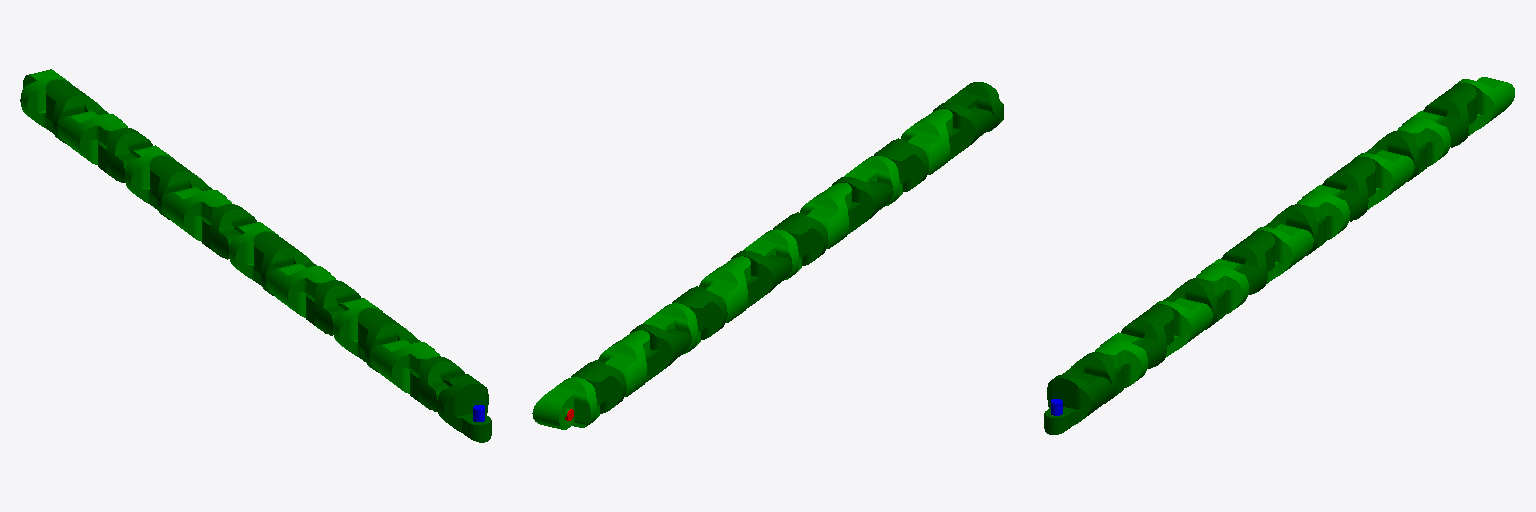
--- Facts derived from the render (not from the file) ---
3 views of the same robot in one strip: view 1: azimuth 30°, elevation 25°; view 2: azimuth 150°, elevation 25°; view 3: azimuth 330°, elevation 25° (orthographic).
Robot: REU_snake — 52 links, 51 joints (16 revolute, 35 fixed); root link kdl_dummy_root; default pose: all joints at 0.
Visible links, largest first — view 1: reu_module_body_16, reu_module_body_6, reu_module_body_2, reu_module_body_10, reu_module_body_14, reu_module_body_13, reu_module_body_11, reu_module_body_15, reu_module_body_3, reu_module_body_7, reu_module_body_9, reu_module_body_5 (+5 smaller); view 2: reu_module_body_0, reu_module_body_14, reu_module_body_10, reu_module_body_6, reu_module_body_2, reu_module_body_3, reu_module_body_7, reu_module_body_11, reu_module_body_15, reu_module_body_13, reu_module_body_1, reu_module_body_9 (+5 smaller); view 3: reu_module_body_16, reu_module_body_5, reu_module_body_1, reu_module_body_9, reu_module_body_13, reu_module_body_12, reu_module_body_8, reu_module_body_4, reu_module_body_0, reu_module_body_6, reu_module_body_10, reu_module_body_14 (+5 smaller).
Link boxes in pixels (x1=…): reu_module_body_16: x1=437, y1=374, x2=491, y2=442; reu_module_body_6: x1=162, y1=187, x2=231, y2=241; reu_module_body_2: x1=58, y1=111, x2=127, y2=164; reu_module_body_10: x1=266, y1=263, x2=335, y2=317; reu_module_body_14: x1=370, y1=340, x2=439, y2=393; reu_module_body_13: x1=358, y1=308, x2=420, y2=372; reu_module_body_11: x1=306, y1=280, x2=360, y2=335; reu_module_body_15: x1=410, y1=356, x2=465, y2=411; reu_module_body_3: x1=98, y1=128, x2=152, y2=182; reu_module_body_7: x1=202, y1=204, x2=256, y2=259; reu_module_body_9: x1=254, y1=232, x2=316, y2=295; reu_module_body_5: x1=150, y1=156, x2=212, y2=219; reu_module_body_0: x1=532, y1=377, x2=599, y2=429; reu_module_body_14: x1=901, y1=109, x2=952, y2=174; reu_module_body_10: x1=800, y1=183, x2=851, y2=248; reu_module_body_6: x1=699, y1=256, x2=750, y2=322; reu_module_body_2: x1=598, y1=330, x2=649, y2=396; reu_module_body_3: x1=630, y1=324, x2=690, y2=381; reu_module_body_7: x1=731, y1=250, x2=791, y2=307; reu_module_body_11: x1=832, y1=177, x2=892, y2=233; reu_module_body_15: x1=933, y1=103, x2=993, y2=160; reu_module_body_13: x1=874, y1=138, x2=928, y2=191; reu_module_body_1: x1=571, y1=360, x2=626, y2=413; reu_module_body_9: x1=773, y1=212, x2=828, y2=265; reu_module_body_16: x1=1044, y1=372, x2=1111, y2=434; reu_module_body_5: x1=1322, y1=157, x2=1375, y2=221; reu_module_body_1: x1=1423, y1=83, x2=1476, y2=147; reu_module_body_9: x1=1221, y1=231, x2=1274, y2=294; reu_module_body_13: x1=1121, y1=305, x2=1173, y2=368; reu_module_body_12: x1=1150, y1=298, x2=1212, y2=356; reu_module_body_8: x1=1251, y1=224, x2=1313, y2=283; reu_module_body_4: x1=1352, y1=150, x2=1414, y2=209; reu_module_body_0: x1=1453, y1=77, x2=1514, y2=135; reu_module_body_6: x1=1297, y1=185, x2=1349, y2=240; reu_module_body_10: x1=1196, y1=259, x2=1248, y2=314; reu_module_body_14: x1=1095, y1=332, x2=1147, y2=387.
Bounding box of the posed robot: 0.0513 × 0.8891 × 0.0513 m (x, y, z).
Meshes: 1 distinct files referenced, 17 mesh visuals loaded (1 binary STL).

robot.urdf — REU_snake:
<?xml version="1.0" ?>
<robot name="REU_snake" xmlns:xacro="http://ros.org/wiki/xacro">
  <!-- Written by Christian Luu ([email redacted]) 2021 -->
  <!-- URDF uses a cylindrical collision model -->
  <!-- Inertial Matrix of ReU module is from MeshLab -->
  <link name="kdl_dummy_root"/>
  <joint name="kdl_dummy_root_to_dummy_head" type="fixed">
    <parent link="kdl_dummy_root"/>
    <child link="reu_module_in_0"/>
    <origin rpy="0 -1.57079632679 0" xyz="0 0 0.026"/>
  </joint>
  <link name="reu_module_in_0">
    <visual>
      <origin rpy="0 0 0" xyz="0 0 0"/>
      <geometry>
        <cylinder length="0.02" radius="0.006"/>
      </geometry>
      <material name="red">
        <color rgba="1 0 0 1"/>
      </material>
    </visual>
    <inertial>
      <origin rpy="0 0 0" xyz="0 0 0"/>
      <mass value="1"/>
      <inertia ixx="1" ixy="0" ixz="0" iyy="1" iyz="0" izz="1"/>
    </inertial>
  </link>
  <link name="reu_module_body_0">
    <visual>
      <origin rpy="0 0 0" xyz="-0.02539 -0.02539 -0.9"/>
      <geometry>
        <mesh filename="package://snakelib_description/REU_snake/meshes/ReU.STL" scale="0.0254 0.0254 0.0254"/>
      </geometry>
      <material name="green_dark">
        <color rgba="0 0.6 0 1"/>
      </material>
    </visual>
    <collision>
      <origin rpy="0 0 0" xyz="0 0 0"/>
      <geometry>
        <cylinder length="0.0208325" radius="0.02539"/>
      </geometry>
    </collision>
    <inertial>
      <origin rpy="0 0 0" xyz="0 0 0"/>
      <mass value="0.103"/>
      <inertia ixx="2.948" ixy="0.0452" ixz="0.4092" iyy="2.9305" iyz="-0.405" izz="1.819"/>
    </inertial>
  </link>
  <link name="reu_module_out_0">
    <visual>
      <origin rpy="0 0 0" xyz="0 0 0"/>
      <geometry>
        <cylinder length="0.015" radius="0.006"/>
      </geometry>
      <material name="blue">
        <color rgba="0 0 1 1"/>
      </material>
    </visual>
    <inertial>
      <origin rpy="0 0 0" xyz="0 0 0"/>
      <mass value="0"/>
      <inertia ixx="1" ixy="0" ixz="0" iyy="1" iyz="0" izz="1"/>
    </inertial>
  </link>
  <joint name="reu_joint_in2body_0" type="fixed">
    <parent link="reu_module_in_0"/>
    <child link="reu_module_body_0"/>
    <origin rpy="1.57076327 0 0" xyz="0 -0.0066 0"/>
  </joint>
  <joint name="reu_joint_body2out_0" type="fixed">
    <parent link="reu_module_body_0"/>
    <child link="reu_module_out_0"/>
    <origin rpy="0 1.57076327 0" xyz="0 0 0.044"/>
  </joint>
  <joint name="reu_joint_out2in_0" type="revolute">
    <parent link="reu_module_out_0"/>
    <child link="reu_module_in_1"/>
    <axis xyz="0 0 1"/>
    <origin rpy="0 3.14152654 -1.57076327" xyz="0 0 0"/>
    <dynamics damping="0.1" friction="0.2"/>
    <limit effort="7.0" lower="-1.57076327" upper="1.57076327" velocity="2.2"/>
  </joint>
  <transmission name="module_2_module_trans_0">
    <type>transmission_interface/SimpleTranmission</type>
    <actuator name="module_actuator_0">
      <mechanicalReduction>1</mechanicalReduction>
    </actuator>
    <joint name="reu_joint_out2in_0">
      <hardwareInterface>PositionJointInterface</hardwareInterface>
    </joint>
  </transmission>
  <link name="reu_module_in_1">
    <visual>
      <origin rpy="0 0 0" xyz="0 0 0"/>
      <geometry>
        <cylinder length="0.02" radius="0.006"/>
      </geometry>
      <material name="red">
        <color rgba="1 0 0 1"/>
      </material>
    </visual>
    <inertial>
      <origin rpy="0 0 0" xyz="0 0 0"/>
      <mass value="1"/>
      <inertia ixx="1" ixy="0" ixz="0" iyy="1" iyz="0" izz="1"/>
    </inertial>
  </link>
  <link name="reu_module_body_1">
    <visual>
      <origin rpy="0 0 0" xyz="-0.02539 -0.02539 -0.9"/>
      <geometry>
        <mesh filename="package://snakelib_description/REU_snake/meshes/ReU.STL" scale="0.0254 0.0254 0.0254"/>
      </geometry>
      <material name="green_light">
        <color rgba="0 0.4 0 1"/>
      </material>
    </visual>
    <collision>
      <origin rpy="0 0 0" xyz="0 0 0"/>
      <geometry>
        <cylinder length="0.0208325" radius="0.02539"/>
      </geometry>
    </collision>
    <inertial>
      <origin rpy="0 0 0" xyz="0 0 0"/>
      <mass value="0.103"/>
      <inertia ixx="2.948" ixy="0.0452" ixz="0.4092" iyy="2.9305" iyz="-0.405" izz="1.819"/>
    </inertial>
  </link>
  <link name="reu_module_out_1">
    <visual>
      <origin rpy="0 0 0" xyz="0 0 0"/>
      <geometry>
        <cylinder length="0.015" radius="0.006"/>
      </geometry>
      <material name="blue">
        <color rgba="0 0 1 1"/>
      </material>
    </visual>
    <inertial>
      <origin rpy="0 0 0" xyz="0 0 0"/>
      <mass value="0"/>
      <inertia ixx="1" ixy="0" ixz="0" iyy="1" iyz="0" izz="1"/>
    </inertial>
  </link>
  <joint name="reu_joint_in2body_1" type="fixed">
    <parent link="reu_module_in_1"/>
    <child link="reu_module_body_1"/>
    <origin rpy="1.57076327 0 0" xyz="0 -0.0066 0"/>
  </joint>
  <joint name="reu_joint_body2out_1" type="fixed">
    <parent link="reu_module_body_1"/>
    <child link="reu_module_out_1"/>
    <origin rpy="0 1.57076327 0" xyz="0 0 0.044"/>
  </joint>
  <joint name="reu_joint_out2in_1" type="revolute">
    <parent link="reu_module_out_1"/>
    <child link="reu_module_in_2"/>
    <axis xyz="0 0 1"/>
    <origin rpy="0 3.14152654 -1.57076327" xyz="0 0 0"/>
    <dynamics damping="0.1" friction="0.2"/>
    <limit effort="7.0" lower="-1.57076327" upper="1.57076327" velocity="2.2"/>
  </joint>
  <transmission name="module_2_module_trans_1">
    <type>transmission_interface/SimpleTranmission</type>
    <actuator name="module_actuator_1">
      <mechanicalReduction>1</mechanicalReduction>
    </actuator>
    <joint name="reu_joint_out2in_1">
      <hardwareInterface>PositionJointInterface</hardwareInterface>
    </joint>
  </transmission>
  <link name="reu_module_in_2">
    <visual>
      <origin rpy="0 0 0" xyz="0 0 0"/>
      <geometry>
        <cylinder length="0.02" radius="0.006"/>
      </geometry>
      <material name="red">
        <color rgba="1 0 0 1"/>
      </material>
    </visual>
    <inertial>
      <origin rpy="0 0 0" xyz="0 0 0"/>
      <mass value="1"/>
      <inertia ixx="1" ixy="0" ixz="0" iyy="1" iyz="0" izz="1"/>
    </inertial>
  </link>
  <link name="reu_module_body_2">
    <visual>
      <origin rpy="0 0 0" xyz="-0.02539 -0.02539 -0.9"/>
      <geometry>
        <mesh filename="package://snakelib_description/REU_snake/meshes/ReU.STL" scale="0.0254 0.0254 0.0254"/>
      </geometry>
      <material name="green_dark">
        <color rgba="0 0.6 0 1"/>
      </material>
    </visual>
    <collision>
      <origin rpy="0 0 0" xyz="0 0 0"/>
      <geometry>
        <cylinder length="0.0208325" radius="0.02539"/>
      </geometry>
    </collision>
    <inertial>
      <origin rpy="0 0 0" xyz="0 0 0"/>
      <mass value="0.103"/>
      <inertia ixx="2.948" ixy="0.0452" ixz="0.4092" iyy="2.9305" iyz="-0.405" izz="1.819"/>
    </inertial>
  </link>
  <link name="reu_module_out_2">
    <visual>
      <origin rpy="0 0 0" xyz="0 0 0"/>
      <geometry>
        <cylinder length="0.015" radius="0.006"/>
      </geometry>
      <material name="blue">
        <color rgba="0 0 1 1"/>
      </material>
    </visual>
    <inertial>
      <origin rpy="0 0 0" xyz="0 0 0"/>
      <mass value="0"/>
      <inertia ixx="1" ixy="0" ixz="0" iyy="1" iyz="0" izz="1"/>
    </inertial>
  </link>
  <joint name="reu_joint_in2body_2" type="fixed">
    <parent link="reu_module_in_2"/>
    <child link="reu_module_body_2"/>
    <origin rpy="1.57076327 0 0" xyz="0 -0.0066 0"/>
  </joint>
  <joint name="reu_joint_body2out_2" type="fixed">
    <parent link="reu_module_body_2"/>
    <child link="reu_module_out_2"/>
    <origin rpy="0 1.57076327 0" xyz="0 0 0.044"/>
  </joint>
  <joint name="reu_joint_out2in_2" type="revolute">
    <parent link="reu_module_out_2"/>
    <child link="reu_module_in_3"/>
    <axis xyz="0 0 1"/>
    <origin rpy="0 3.14152654 -1.57076327" xyz="0 0 0"/>
    <dynamics damping="0.1" friction="0.2"/>
    <limit effort="7.0" lower="-1.57076327" upper="1.57076327" velocity="2.2"/>
  </joint>
  <transmission name="module_2_module_trans_2">
    <type>transmission_interface/SimpleTranmission</type>
    <actuator name="module_actuator_2">
      <mechanicalReduction>1</mechanicalReduction>
    </actuator>
    <joint name="reu_joint_out2in_2">
      <hardwareInterface>PositionJointInterface</hardwareInterface>
    </joint>
  </transmission>
  <link name="reu_module_in_3">
    <visual>
      <origin rpy="0 0 0" xyz="0 0 0"/>
      <geometry>
        <cylinder length="0.02" radius="0.006"/>
      </geometry>
      <material name="red">
        <color rgba="1 0 0 1"/>
      </material>
    </visual>
    <inertial>
      <origin rpy="0 0 0" xyz="0 0 0"/>
      <mass value="1"/>
      <inertia ixx="1" ixy="0" ixz="0" iyy="1" iyz="0" izz="1"/>
    </inertial>
  </link>
  <link name="reu_module_body_3">
    <visual>
      <origin rpy="0 0 0" xyz="-0.02539 -0.02539 -0.9"/>
      <geometry>
        <mesh filename="package://snakelib_description/REU_snake/meshes/ReU.STL" scale="0.0254 0.0254 0.0254"/>
      </geometry>
      <material name="green_light">
        <color rgba="0 0.4 0 1"/>
      </material>
    </visual>
    <collision>
      <origin rpy="0 0 0" xyz="0 0 0"/>
      <geometry>
        <cylinder length="0.0208325" radius="0.02539"/>
      </geometry>
    </collision>
    <inertial>
      <origin rpy="0 0 0" xyz="0 0 0"/>
      <mass value="0.103"/>
      <inertia ixx="2.948" ixy="0.0452" ixz="0.4092" iyy="2.9305" iyz="-0.405" izz="1.819"/>
    </inertial>
  </link>
  <link name="reu_module_out_3">
    <visual>
      <origin rpy="0 0 0" xyz="0 0 0"/>
      <geometry>
        <cylinder length="0.015" radius="0.006"/>
      </geometry>
      <material name="blue">
        <color rgba="0 0 1 1"/>
      </material>
    </visual>
    <inertial>
      <origin rpy="0 0 0" xyz="0 0 0"/>
      <mass value="0"/>
      <inertia ixx="1" ixy="0" ixz="0" iyy="1" iyz="0" izz="1"/>
    </inertial>
  </link>
  <joint name="reu_joint_in2body_3" type="fixed">
    <parent link="reu_module_in_3"/>
    <child link="reu_module_body_3"/>
    <origin rpy="1.57076327 0 0" xyz="0 -0.0066 0"/>
  </joint>
  <joint name="reu_joint_body2out_3" type="fixed">
    <parent link="reu_module_body_3"/>
    <child link="reu_module_out_3"/>
    <origin rpy="0 1.57076327 0" xyz="0 0 0.044"/>
  </joint>
  <joint name="reu_joint_out2in_3" type="revolute">
    <parent link="reu_module_out_3"/>
    <child link="reu_module_in_4"/>
    <axis xyz="0 0 1"/>
    <origin rpy="0 3.14152654 -1.57076327" xyz="0 0 0"/>
    <dynamics damping="0.1" friction="0.2"/>
    <limit effort="7.0" lower="-1.57076327" upper="1.57076327" velocity="2.2"/>
  </joint>
  <transmission name="module_2_module_trans_3">
    <type>transmission_interface/SimpleTranmission</type>
    <actuator name="module_actuator_3">
      <mechanicalReduction>1</mechanicalReduction>
    </actuator>
    <joint name="reu_joint_out2in_3">
      <hardwareInterface>PositionJointInterface</hardwareInterface>
    </joint>
  </transmission>
  <link name="reu_module_in_4">
    <visual>
      <origin rpy="0 0 0" xyz="0 0 0"/>
      <geometry>
        <cylinder length="0.02" radius="0.006"/>
      </geometry>
      <material name="red">
        <color rgba="1 0 0 1"/>
      </material>
    </visual>
    <inertial>
      <origin rpy="0 0 0" xyz="0 0 0"/>
      <mass value="1"/>
      <inertia ixx="1" ixy="0" ixz="0" iyy="1" iyz="0" izz="1"/>
    </inertial>
  </link>
  <link name="reu_module_body_4">
    <visual>
      <origin rpy="0 0 0" xyz="-0.02539 -0.02539 -0.9"/>
      <geometry>
        <mesh filename="package://snakelib_description/REU_snake/meshes/ReU.STL" scale="0.0254 0.0254 0.0254"/>
      </geometry>
      <material name="green_dark">
        <color rgba="0 0.6 0 1"/>
      </material>
    </visual>
    <collision>
      <origin rpy="0 0 0" xyz="0 0 0"/>
      <geometry>
        <cylinder length="0.0208325" radius="0.02539"/>
      </geometry>
    </collision>
    <inertial>
      <origin rpy="0 0 0" xyz="0 0 0"/>
      <mass value="0.103"/>
      <inertia ixx="2.948" ixy="0.0452" ixz="0.4092" iyy="2.9305" iyz="-0.405" izz="1.819"/>
    </inertial>
  </link>
  <link name="reu_module_out_4">
    <visual>
      <origin rpy="0 0 0" xyz="0 0 0"/>
      <geometry>
        <cylinder length="0.015" radius="0.006"/>
      </geometry>
      <material name="blue">
        <color rgba="0 0 1 1"/>
      </material>
    </visual>
    <inertial>
      <origin rpy="0 0 0" xyz="0 0 0"/>
      <mass value="0"/>
      <inertia ixx="1" ixy="0" ixz="0" iyy="1" iyz="0" izz="1"/>
    </inertial>
  </link>
  <joint name="reu_joint_in2body_4" type="fixed">
    <parent link="reu_module_in_4"/>
    <child link="reu_module_body_4"/>
    <origin rpy="1.57076327 0 0" xyz="0 -0.0066 0"/>
  </joint>
  <joint name="reu_joint_body2out_4" type="fixed">
    <parent link="reu_module_body_4"/>
    <child link="reu_module_out_4"/>
    <origin rpy="0 1.57076327 0" xyz="0 0 0.044"/>
  </joint>
  <joint name="reu_joint_out2in_4" type="revolute">
    <parent link="reu_module_out_4"/>
    <child link="reu_module_in_5"/>
    <axis xyz="0 0 1"/>
    <origin rpy="0 3.14152654 -1.57076327" xyz="0 0 0"/>
    <dynamics damping="0.1" friction="0.2"/>
    <limit effort="7.0" lower="-1.57076327" upper="1.57076327" velocity="2.2"/>
  </joint>
  <transmission name="module_2_module_trans_4">
    <type>transmission_interface/SimpleTranmission</type>
    <actuator name="module_actuator_4">
      <mechanicalReduction>1</mechanicalReduction>
    </actuator>
    <joint name="reu_joint_out2in_4">
      <hardwareInterface>PositionJointInterface</hardwareInterface>
    </joint>
  </transmission>
  <link name="reu_module_in_5">
    <visual>
      <origin rpy="0 0 0" xyz="0 0 0"/>
      <geometry>
        <cylinder length="0.02" radius="0.006"/>
      </geometry>
      <material name="red">
        <color rgba="1 0 0 1"/>
      </material>
    </visual>
    <inertial>
      <origin rpy="0 0 0" xyz="0 0 0"/>
      <mass value="1"/>
      <inertia ixx="1" ixy="0" ixz="0" iyy="1" iyz="0" izz="1"/>
    </inertial>
  </link>
  <link name="reu_module_body_5">
    <visual>
      <origin rpy="0 0 0" xyz="-0.02539 -0.02539 -0.9"/>
      <geometry>
        <mesh filename="package://snakelib_description/REU_snake/meshes/ReU.STL" scale="0.0254 0.0254 0.0254"/>
      </geometry>
      <material name="green_light">
        <color rgba="0 0.4 0 1"/>
      </material>
    </visual>
    <collision>
      <origin rpy="0 0 0" xyz="0 0 0"/>
      <geometry>
        <cylinder length="0.0208325" radius="0.02539"/>
      </geometry>
    </collision>
    <inertial>
      <origin rpy="0 0 0" xyz="0 0 0"/>
      <mass value="0.103"/>
      <inertia ixx="2.948" ixy="0.0452" ixz="0.4092" iyy="2.9305" iyz="-0.405" izz="1.819"/>
    </inertial>
  </link>
  <link name="reu_module_out_5">
    <visual>
      <origin rpy="0 0 0" xyz="0 0 0"/>
      <geometry>
        <cylinder length="0.015" radius="0.006"/>
      </geometry>
      <material name="blue">
        <color rgba="0 0 1 1"/>
      </material>
    </visual>
    <inertial>
      <origin rpy="0 0 0" xyz="0 0 0"/>
      <mass value="0"/>
      <inertia ixx="1" ixy="0" ixz="0" iyy="1" iyz="0" izz="1"/>
    </inertial>
  </link>
  <joint name="reu_joint_in2body_5" type="fixed">
    <parent link="reu_module_in_5"/>
    <child link="reu_module_body_5"/>
    <origin rpy="1.57076327 0 0" xyz="0 -0.0066 0"/>
  </joint>
  <joint name="reu_joint_body2out_5" type="fixed">
    <parent link="reu_module_body_5"/>
    <child link="reu_module_out_5"/>
    <origin rpy="0 1.57076327 0" xyz="0 0 0.044"/>
  </joint>
  <joint name="reu_joint_out2in_5" type="revolute">
    <parent link="reu_module_out_5"/>
    <child link="reu_module_in_6"/>
    <axis xyz="0 0 1"/>
    <origin rpy="0 3.14152654 -1.57076327" xyz="0 0 0"/>
    <dynamics damping="0.1" friction="0.2"/>
    <limit effort="7.0" lower="-1.57076327" upper="1.57076327" velocity="2.2"/>
  </joint>
  <transmission name="module_2_module_trans_5">
    <type>transmission_interface/SimpleTranmission</type>
    <actuator name="module_actuator_5">
      <mechanicalReduction>1</mechanicalReduction>
    </actuator>
    <joint name="reu_joint_out2in_5">
      <hardwareInterface>PositionJointInterface</hardwareInterface>
    </joint>
  </transmission>
  <link name="reu_module_in_6">
    <visual>
      <origin rpy="0 0 0" xyz="0 0 0"/>
      <geometry>
        <cylinder length="0.02" radius="0.006"/>
      </geometry>
      <material name="red">
        <color rgba="1 0 0 1"/>
      </material>
    </visual>
    <inertial>
      <origin rpy="0 0 0" xyz="0 0 0"/>
      <mass value="1"/>
      <inertia ixx="1" ixy="0" ixz="0" iyy="1" iyz="0" izz="1"/>
    </inertial>
  </link>
  <link name="reu_module_body_6">
    <visual>
      <origin rpy="0 0 0" xyz="-0.02539 -0.02539 -0.9"/>
      <geometry>
        <mesh filename="package://snakelib_description/REU_snake/meshes/ReU.STL" scale="0.0254 0.0254 0.0254"/>
      </geometry>
      <material name="green_dark">
        <color rgba="0 0.6 0 1"/>
      </material>
    </visual>
    <collision>
      <origin rpy="0 0 0" xyz="0 0 0"/>
      <geometry>
        <cylinder length="0.0208325" radius="0.02539"/>
      </geometry>
    </collision>
    <inertial>
      <origin rpy="0 0 0" xyz="0 0 0"/>
      <mass value="0.103"/>
      <inertia ixx="2.948" ixy="0.0452" ixz="0.4092" iyy="2.9305" iyz="-0.405" izz="1.819"/>
    </inertial>
  </link>
  <link name="reu_module_out_6">
    <visual>
      <origin rpy="0 0 0" xyz="0 0 0"/>
      <geometry>
        <cylinder length="0.015" radius="0.006"/>
      </geometry>
      <material name="blue">
        <color rgba="0 0 1 1"/>
      </material>
    </visual>
    <inertial>
      <origin rpy="0 0 0" xyz="0 0 0"/>
      <mass value="0"/>
      <inertia ixx="1" ixy="0" ixz="0" iyy="1" iyz="0" izz="1"/>
    </inertial>
  </link>
  <joint name="reu_joint_in2body_6" type="fixed">
    <parent link="reu_module_in_6"/>
    <child link="reu_module_body_6"/>
    <origin rpy="1.57076327 0 0" xyz="0 -0.0066 0"/>
  </joint>
  <joint name="reu_joint_body2out_6" type="fixed">
    <parent link="reu_module_body_6"/>
    <child link="reu_module_out_6"/>
    <origin rpy="0 1.57076327 0" xyz="0 0 0.044"/>
  </joint>
  <joint name="reu_joint_out2in_6" type="revolute">
    <parent link="reu_module_out_6"/>
    <child link="reu_module_in_7"/>
    <axis xyz="0 0 1"/>
    <origin rpy="0 3.14152654 -1.57076327" xyz="0 0 0"/>
    <dynamics damping="0.1" friction="0.2"/>
    <limit effort="7.0" lower="-1.57076327" upper="1.57076327" velocity="2.2"/>
  </joint>
  <transmission name="module_2_module_trans_6">
    <type>transmission_interface/SimpleTranmission</type>
    <actuator name="module_actuator_6">
      <mechanicalReduction>1</mechanicalReduction>
    </actuator>
    <joint name="reu_joint_out2in_6">
      <hardwareInterface>PositionJointInterface</hardwareInterface>
    </joint>
  </transmission>
  <link name="reu_module_in_7">
    <visual>
      <origin rpy="0 0 0" xyz="0 0 0"/>
      <geometry>
        <cylinder length="0.02" radius="0.006"/>
      </geometry>
      <material name="red">
        <color rgba="1 0 0 1"/>
      </material>
    </visual>
    <inertial>
      <origin rpy="0 0 0" xyz="0 0 0"/>
      <mass value="1"/>
      <inertia ixx="1" ixy="0" ixz="0" iyy="1" iyz="0" izz="1"/>
    </inertial>
  </link>
  <link name="reu_module_body_7">
    <visual>
      <origin rpy="0 0 0" xyz="-0.02539 -0.02539 -0.9"/>
      <geometry>
        <mesh filename="package://snakelib_description/REU_snake/meshes/ReU.STL" scale="0.0254 0.0254 0.0254"/>
      </geometry>
      <material name="green_light">
        <color rgba="0 0.4 0 1"/>
      </material>
    </visual>
    <collision>
      <origin rpy="0 0 0" xyz="0 0 0"/>
      <geometry>
        <cylinder length="0.0208325" radius="0.02539"/>
      </geometry>
    </collision>
    <inertial>
      <origin rpy="0 0 0" xyz="0 0 0"/>
      <mass value="0.103"/>
      <inertia ixx="2.948" ixy="0.0452" ixz="0.4092" iyy="2.9305" iyz="-0.405" izz="1.819"/>
    </inertial>
  </link>
  <link name="reu_module_out_7">
    <visual>
      <origin rpy="0 0 0" xyz="0 0 0"/>
      <geometry>
        <cylinder length="0.015" radius="0.006"/>
      </geometry>
      <material name="blue">
        <color rgba="0 0 1 1"/>
      </material>
    </visual>
    <inertial>
      <origin rpy="0 0 0" xyz="0 0 0"/>
      <mass value="0"/>
      <inertia ixx="1" ixy="0" ixz="0" iyy="1" iyz="0" izz="1"/>
    </inertial>
  </link>
  <joint name="reu_joint_in2body_7" type="fixed">
    <parent link="reu_module_in_7"/>
    <child link="reu_module_body_7"/>
    <origin rpy="1.57076327 0 0" xyz="0 -0.0066 0"/>
  </joint>
  <joint name="reu_joint_body2out_7" type="fixed">
    <parent link="reu_module_body_7"/>
    <child link="reu_module_out_7"/>
    <origin rpy="0 1.57076327 0" xyz="0 0 0.044"/>
  </joint>
  <joint name="reu_joint_out2in_7" type="revolute">
    <parent link="reu_module_out_7"/>
    <child link="reu_module_in_8"/>
    <axis xyz="0 0 1"/>
    <origin rpy="0 3.14152654 -1.57076327" xyz="0 0 0"/>
    <dynamics damping="0.1" friction="0.2"/>
    <limit effort="7.0" lower="-1.57076327" upper="1.57076327" velocity="2.2"/>
  </joint>
  <transmission name="module_2_module_trans_7">
    <type>transmission_interface/SimpleTranmission</type>
    <actuator name="module_actuator_7">
      <mechanicalReduction>1</mechanicalReduction>
    </actuator>
    <joint name="reu_joint_out2in_7">
      <hardwareInterface>PositionJointInterface</hardwareInterface>
    </joint>
  </transmission>
  <link name="reu_module_in_8">
    <visual>
      <origin rpy="0 0 0" xyz="0 0 0"/>
      <geometry>
        <cylinder length="0.02" radius="0.006"/>
      </geometry>
      <material name="red">
        <color rgba="1 0 0 1"/>
      </material>
    </visual>
    <inertial>
      <origin rpy="0 0 0" xyz="0 0 0"/>
      <mass value="1"/>
      <inertia ixx="1" ixy="0" ixz="0" iyy="1" iyz="0" izz="1"/>
    </inertial>
  </link>
  <link name="reu_module_body_8">
    <visual>
      <origin rpy="0 0 0" xyz="-0.02539 -0.02539 -0.9"/>
      <geometry>
        <mesh filename="package://snakelib_description/REU_snake/meshes/ReU.STL" scale="0.0254 0.0254 0.0254"/>
      </geometry>
      <material name="green_dark">
        <color rgba="0 0.6 0 1"/>
      </material>
    </visual>
    <collision>
      <origin rpy="0 0 0" xyz="0 0 0"/>
      <geometry>
        <cylinder length="0.0208325" radius="0.02539"/>
      </geometry>
    </collision>
    <inertial>
      <origin rpy="0 0 0" xyz="0 0 0"/>
      <mass value="0.103"/>
      <inertia ixx="2.948" ixy="0.0452" ixz="0.4092" iyy="2.9305" iyz="-0.405" izz="1.819"/>
    </inertial>
  </link>
  <link name="reu_module_out_8">
    <visual>
      <origin rpy="0 0 0" xyz="0 0 0"/>
      <geometry>
        <cylinder length="0.015" radius="0.006"/>
      </geometry>
      <material name="blue">
        <color rgba="0 0 1 1"/>
      </material>
    </visual>
    <inertial>
      <origin rpy="0 0 0" xyz="0 0 0"/>
      <mass value="0"/>
      <inertia ixx="1" ixy="0" ixz="0" iyy="1" iyz="0" izz="1"/>
    </inertial>
  </link>
  <joint name="reu_joint_in2body_8" type="fixed">
    <parent link="reu_module_in_8"/>
    <child link="reu_module_body_8"/>
    <origin rpy="1.57076327 0 0" xyz="0 -0.0066 0"/>
  </joint>
  <joint name="reu_joint_body2out_8" type="fixed">
    <parent link="reu_module_body_8"/>
    <child link="reu_module_out_8"/>
    <origin rpy="0 1.57076327 0" xyz="0 0 0.044"/>
  </joint>
  <joint name="reu_joint_out2in_8" type="revolute">
    <parent link="reu_module_out_8"/>
    <child link="reu_module_in_9"/>
    <axis xyz="0 0 1"/>
    <origin rpy="0 3.14152654 -1.57076327" xyz="0 0 0"/>
    <dynamics damping="0.1" friction="0.2"/>
    <limit effort="7.0" lower="-1.57076327" upper="1.57076327" velocity="2.2"/>
  </joint>
  <transmission name="module_2_module_trans_8">
    <type>transmission_interface/SimpleTranmission</type>
    <actuator name="module_actuator_8">
      <mechanicalReduction>1</mechanicalReduction>
    </actuator>
    <joint name="reu_joint_out2in_8">
      <hardwareInterface>PositionJointInterface</hardwareInterface>
    </joint>
  </transmission>
  <link name="reu_module_in_9">
    <visual>
      <origin rpy="0 0 0" xyz="0 0 0"/>
      <geometry>
        <cylinder length="0.02" radius="0.006"/>
      </geometry>
      <material name="red">
        <color rgba="1 0 0 1"/>
      </material>
    </visual>
    <inertial>
      <origin rpy="0 0 0" xyz="0 0 0"/>
      <mass value="1"/>
      <inertia ixx="1" ixy="0" ixz="0" iyy="1" iyz="0" izz="1"/>
    </inertial>
  </link>
  <link name="reu_module_body_9">
    <visual>
      <origin rpy="0 0 0" xyz="-0.02539 -0.02539 -0.9"/>
      <geometry>
        <mesh filename="package://snakelib_description/REU_snake/meshes/ReU.STL" scale="0.0254 0.0254 0.0254"/>
      </geometry>
      <material name="green_light">
        <color rgba="0 0.4 0 1"/>
      </material>
    </visual>
    <collision>
      <origin rpy="0 0 0" xyz="0 0 0"/>
      <geometry>
        <cylinder length="0.0208325" radius="0.02539"/>
      </geometry>
    </collision>
    <inertial>
      <origin rpy="0 0 0" xyz="0 0 0"/>
      <mass value="0.103"/>
      <inertia ixx="2.948" ixy="0.0452" ixz="0.4092" iyy="2.9305" iyz="-0.405" izz="1.819"/>
    </inertial>
  </link>
  <link name="reu_module_out_9">
    <visual>
      <origin rpy="0 0 0" xyz="0 0 0"/>
      <geometry>
        <cylinder length="0.015" radius="0.006"/>
      </geometry>
      <material name="blue">
        <color rgba="0 0 1 1"/>
      </material>
    </visual>
    <inertial>
      <origin rpy="0 0 0" xyz="0 0 0"/>
      <mass value="0"/>
      <inertia ixx="1" ixy="0" ixz="0" iyy="1" iyz="0" izz="1"/>
    </inertial>
  </link>
  <joint name="reu_joint_in2body_9" type="fixed">
    <parent link="reu_module_in_9"/>
    <child link="reu_module_body_9"/>
    <origin rpy="1.57076327 0 0" xyz="0 -0.0066 0"/>
  </joint>
  <joint name="reu_joint_body2out_9" type="fixed">
    <parent link="reu_module_body_9"/>
    <child link="reu_module_out_9"/>
    <origin rpy="0 1.57076327 0" xyz="0 0 0.044"/>
  </joint>
  <joint name="reu_joint_out2in_9" type="revolute">
    <parent link="reu_module_out_9"/>
    <child link="reu_module_in_10"/>
    <axis xyz="0 0 1"/>
    <origin rpy="0 3.14152654 -1.57076327" xyz="0 0 0"/>
    <dynamics damping="0.1" friction="0.2"/>
    <limit effort="7.0" lower="-1.57076327" upper="1.57076327" velocity="2.2"/>
  </joint>
  <transmission name="module_2_module_trans_9">
    <type>transmission_interface/SimpleTranmission</type>
    <actuator name="module_actuator_9">
      <mechanicalReduction>1</mechanicalReduction>
    </actuator>
    <joint name="reu_joint_out2in_9">
      <hardwareInterface>PositionJointInterface</hardwareInterface>
    </joint>
  </transmission>
  <link name="reu_module_in_10">
    <visual>
      <origin rpy="0 0 0" xyz="0 0 0"/>
      <geometry>
        <cylinder length="0.02" radius="0.006"/>
      </geometry>
      <material name="red">
        <color rgba="1 0 0 1"/>
      </material>
    </visual>
    <inertial>
      <origin rpy="0 0 0" xyz="0 0 0"/>
      <mass value="1"/>
      <inertia ixx="1" ixy="0" ixz="0" iyy="1" iyz="0" izz="1"/>
    </inertial>
  </link>
  <link name="reu_module_body_10">
    <visual>
      <origin rpy="0 0 0" xyz="-0.02539 -0.02539 -0.9"/>
      <geometry>
        <mesh filename="package://snakelib_description/REU_snake/meshes/ReU.STL" scale="0.0254 0.0254 0.0254"/>
      </geometry>
      <material name="green_dark">
        <color rgba="0 0.6 0 1"/>
      </material>
    </visual>
    <collision>
      <origin rpy="0 0 0" xyz="0 0 0"/>
      <geometry>
        <cylinder length="0.0208325" radius="0.02539"/>
      </geometry>
    </collision>
    <inertial>
      <origin rpy="0 0 0" xyz="0 0 0"/>
      <mass value="0.103"/>
      <inertia ixx="2.948" ixy="0.0452" ixz="0.4092" iyy="2.9305" iyz="-0.405" izz="1.819"/>
    </inertial>
  </link>
  <link name="reu_module_out_10">
    <visual>
      <origin rpy="0 0 0" xyz="0 0 0"/>
      <geometry>
        <cylinder length="0.015" radius="0.006"/>
      </geometry>
      <material name="blue">
        <color rgba="0 0 1 1"/>
      </material>
    </visual>
    <inertial>
      <origin rpy="0 0 0" xyz="0 0 0"/>
      <mass value="0"/>
      <inertia ixx="1" ixy="0" ixz="0" iyy="1" iyz="0" izz="1"/>
    </inertial>
  </link>
  <joint name="reu_joint_in2body_10" type="fixed">
    <parent link="reu_module_in_10"/>
    <child link="reu_module_body_10"/>
    <origin rpy="1.57076327 0 0" xyz="0 -0.0066 0"/>
  </joint>
  <joint name="reu_joint_body2out_10" type="fixed">
    <parent link="reu_module_body_10"/>
    <child link="reu_module_out_10"/>
    <origin rpy="0 1.57076327 0" xyz="0 0 0.044"/>
  </joint>
  <joint name="reu_joint_out2in_10" type="revolute">
    <parent link="reu_module_out_10"/>
    <child link="reu_module_in_11"/>
    <axis xyz="0 0 1"/>
    <origin rpy="0 3.14152654 -1.57076327" xyz="0 0 0"/>
    <dynamics damping="0.1" friction="0.2"/>
    <limit effort="7.0" lower="-1.57076327" upper="1.57076327" velocity="2.2"/>
  </joint>
  <transmission name="module_2_module_trans_10">
    <type>transmission_interface/SimpleTranmission</type>
    <actuator name="module_actuator_10">
      <mechanicalReduction>1</mechanicalReduction>
    </actuator>
    <joint name="reu_joint_out2in_10">
      <hardwareInterface>PositionJointInterface</hardwareInterface>
    </joint>
  </transmission>
  <link name="reu_module_in_11">
    <visual>
      <origin rpy="0 0 0" xyz="0 0 0"/>
      <geometry>
        <cylinder length="0.02" radius="0.006"/>
      </geometry>
      <material name="red">
        <color rgba="1 0 0 1"/>
      </material>
    </visual>
    <inertial>
      <origin rpy="0 0 0" xyz="0 0 0"/>
      <mass value="1"/>
      <inertia ixx="1" ixy="0" ixz="0" iyy="1" iyz="0" izz="1"/>
    </inertial>
  </link>
  <link name="reu_module_body_11">
    <visual>
      <origin rpy="0 0 0" xyz="-0.02539 -0.02539 -0.9"/>
      <geometry>
        <mesh filename="package://snakelib_description/REU_snake/meshes/ReU.STL" scale="0.0254 0.0254 0.0254"/>
      </geometry>
      <material name="green_light">
        <color rgba="0 0.4 0 1"/>
      </material>
    </visual>
    <collision>
      <origin rpy="0 0 0" xyz="0 0 0"/>
      <geometry>
        <cylinder length="0.0208325" radius="0.02539"/>
      </geometry>
    </collision>
    <inertial>
      <origin rpy="0 0 0" xyz="0 0 0"/>
      <mass value="0.103"/>
      <inertia ixx="2.948" ixy="0.0452" ixz="0.4092" iyy="2.9305" iyz="-0.405" izz="1.819"/>
    </inertial>
  </link>
  <link name="reu_module_out_11">
    <visual>
      <origin rpy="0 0 0" xyz="0 0 0"/>
      <geometry>
        <cylinder length="0.015" radius="0.006"/>
      </geometry>
      <material name="blue">
        <color rgba="0 0 1 1"/>
      </material>
    </visual>
    <inertial>
      <origin rpy="0 0 0" xyz="0 0 0"/>
      <mass value="0"/>
      <inertia ixx="1" ixy="0" ixz="0" iyy="1" iyz="0" izz="1"/>
    </inertial>
  </link>
  <joint name="reu_joint_in2body_11" type="fixed">
    <parent link="reu_module_in_11"/>
    <child link="reu_module_body_11"/>
    <origin rpy="1.57076327 0 0" xyz="0 -0.0066 0"/>
  </joint>
  <joint name="reu_joint_body2out_11" type="fixed">
    <parent link="reu_module_body_11"/>
    <child link="reu_module_out_11"/>
    <origin rpy="0 1.57076327 0" xyz="0 0 0.044"/>
  </joint>
  <joint name="reu_joint_out2in_11" type="revolute">
    <parent link="reu_module_out_11"/>
    <child link="reu_module_in_12"/>
    <axis xyz="0 0 1"/>
    <origin rpy="0 3.14152654 -1.57076327" xyz="0 0 0"/>
    <dynamics damping="0.1" friction="0.2"/>
    <limit effort="7.0" lower="-1.57076327" upper="1.57076327" velocity="2.2"/>
  </joint>
  <transmission name="module_2_module_trans_11">
    <type>transmission_interface/SimpleTranmission</type>
    <actuator name="module_actuator_11">
      <mechanicalReduction>1</mechanicalReduction>
    </actuator>
    <joint name="reu_joint_out2in_11">
      <hardwareInterface>PositionJointInterface</hardwareInterface>
    </joint>
  </transmission>
  <link name="reu_module_in_12">
    <visual>
      <origin rpy="0 0 0" xyz="0 0 0"/>
      <geometry>
        <cylinder length="0.02" radius="0.006"/>
      </geometry>
      <material name="red">
        <color rgba="1 0 0 1"/>
      </material>
    </visual>
    <inertial>
      <origin rpy="0 0 0" xyz="0 0 0"/>
      <mass value="1"/>
      <inertia ixx="1" ixy="0" ixz="0" iyy="1" iyz="0" izz="1"/>
    </inertial>
  </link>
  <link name="reu_module_body_12">
    <visual>
      <origin rpy="0 0 0" xyz="-0.02539 -0.02539 -0.9"/>
      <geometry>
        <mesh filename="package://snakelib_description/REU_snake/meshes/ReU.STL" scale="0.0254 0.0254 0.0254"/>
      </geometry>
      <material name="green_dark">
        <color rgba="0 0.6 0 1"/>
      </material>
    </visual>
    <collision>
      <origin rpy="0 0 0" xyz="0 0 0"/>
      <geometry>
        <cylinder length="0.0208325" radius="0.02539"/>
      </geometry>
    </collision>
    <inertial>
      <origin rpy="0 0 0" xyz="0 0 0"/>
      <mass value="0.103"/>
      <inertia ixx="2.948" ixy="0.0452" ixz="0.4092" iyy="2.9305" iyz="-0.405" izz="1.819"/>
    </inertial>
  </link>
  <link name="reu_module_out_12">
    <visual>
      <origin rpy="0 0 0" xyz="0 0 0"/>
      <geometry>
        <cylinder length="0.015" radius="0.006"/>
      </geometry>
      <material name="blue">
        <color rgba="0 0 1 1"/>
      </material>
    </visual>
    <inertial>
      <origin rpy="0 0 0" xyz="0 0 0"/>
      <mass value="0"/>
      <inertia ixx="1" ixy="0" ixz="0" iyy="1" iyz="0" izz="1"/>
    </inertial>
  </link>
  <joint name="reu_joint_in2body_12" type="fixed">
    <parent link="reu_module_in_12"/>
    <child link="reu_module_body_12"/>
    <origin rpy="1.57076327 0 0" xyz="0 -0.0066 0"/>
  </joint>
  <joint name="reu_joint_body2out_12" type="fixed">
    <parent link="reu_module_body_12"/>
    <child link="reu_module_out_12"/>
    <origin rpy="0 1.57076327 0" xyz="0 0 0.044"/>
  </joint>
  <joint name="reu_joint_out2in_12" type="revolute">
    <parent link="reu_module_out_12"/>
    <child link="reu_module_in_13"/>
    <axis xyz="0 0 1"/>
    <origin rpy="0 3.14152654 -1.57076327" xyz="0 0 0"/>
    <dynamics damping="0.1" friction="0.2"/>
    <limit effort="7.0" lower="-1.57076327" upper="1.57076327" velocity="2.2"/>
  </joint>
  <transmission name="module_2_module_trans_12">
    <type>transmission_interface/SimpleTranmission</type>
    <actuator name="module_actuator_12">
      <mechanicalReduction>1</mechanicalReduction>
    </actuator>
    <joint name="reu_joint_out2in_12">
      <hardwareInterface>PositionJointInterface</hardwareInterface>
    </joint>
  </transmission>
  <link name="reu_module_in_13">
    <visual>
      <origin rpy="0 0 0" xyz="0 0 0"/>
      <geometry>
        <cylinder length="0.02" radius="0.006"/>
      </geometry>
      <material name="red">
        <color rgba="1 0 0 1"/>
      </material>
    </visual>
    <inertial>
      <origin rpy="0 0 0" xyz="0 0 0"/>
      <mass value="1"/>
      <inertia ixx="1" ixy="0" ixz="0" iyy="1" iyz="0" izz="1"/>
    </inertial>
  </link>
  <link name="reu_module_body_13">
    <visual>
      <origin rpy="0 0 0" xyz="-0.02539 -0.02539 -0.9"/>
      <geometry>
        <mesh filename="package://snakelib_description/REU_snake/meshes/ReU.STL" scale="0.0254 0.0254 0.0254"/>
      </geometry>
      <material name="green_light">
        <color rgba="0 0.4 0 1"/>
      </material>
    </visual>
    <collision>
      <origin rpy="0 0 0" xyz="0 0 0"/>
      <geometry>
        <cylinder length="0.0208325" radius="0.02539"/>
      </geometry>
    </collision>
    <inertial>
      <origin rpy="0 0 0" xyz="0 0 0"/>
      <mass value="0.103"/>
      <inertia ixx="2.948" ixy="0.0452" ixz="0.4092" iyy="2.9305" iyz="-0.405" izz="1.819"/>
    </inertial>
  </link>
  <link name="reu_module_out_13">
    <visual>
      <origin rpy="0 0 0" xyz="0 0 0"/>
      <geometry>
        <cylinder length="0.015" radius="0.006"/>
      </geometry>
      <material name="blue">
        <color rgba="0 0 1 1"/>
      </material>
    </visual>
    <inertial>
      <origin rpy="0 0 0" xyz="0 0 0"/>
      <mass value="0"/>
      <inertia ixx="1" ixy="0" ixz="0" iyy="1" iyz="0" izz="1"/>
    </inertial>
  </link>
  <joint name="reu_joint_in2body_13" type="fixed">
    <parent link="reu_module_in_13"/>
    <child link="reu_module_body_13"/>
    <origin rpy="1.57076327 0 0" xyz="0 -0.0066 0"/>
  </joint>
  <joint name="reu_joint_body2out_13" type="fixed">
    <parent link="reu_module_body_13"/>
    <child link="reu_module_out_13"/>
    <origin rpy="0 1.57076327 0" xyz="0 0 0.044"/>
  </joint>
  <joint name="reu_joint_out2in_13" type="revolute">
    <parent link="reu_module_out_13"/>
    <child link="reu_module_in_14"/>
    <axis xyz="0 0 1"/>
    <origin rpy="0 3.14152654 -1.57076327" xyz="0 0 0"/>
    <dynamics damping="0.1" friction="0.2"/>
    <limit effort="7.0" lower="-1.57076327" upper="1.57076327" velocity="2.2"/>
  </joint>
  <transmission name="module_2_module_trans_13">
    <type>transmission_interface/SimpleTranmission</type>
    <actuator name="module_actuator_13">
      <mechanicalReduction>1</mechanicalReduction>
    </actuator>
    <joint name="reu_joint_out2in_13">
      <hardwareInterface>PositionJointInterface</hardwareInterface>
    </joint>
  </transmission>
  <link name="reu_module_in_14">
    <visual>
      <origin rpy="0 0 0" xyz="0 0 0"/>
      <geometry>
        <cylinder length="0.02" radius="0.006"/>
      </geometry>
      <material name="red">
        <color rgba="1 0 0 1"/>
      </material>
    </visual>
    <inertial>
      <origin rpy="0 0 0" xyz="0 0 0"/>
      <mass value="1"/>
      <inertia ixx="1" ixy="0" ixz="0" iyy="1" iyz="0" izz="1"/>
    </inertial>
  </link>
  <link name="reu_module_body_14">
    <visual>
      <origin rpy="0 0 0" xyz="-0.02539 -0.02539 -0.9"/>
      <geometry>
        <mesh filename="package://snakelib_description/REU_snake/meshes/ReU.STL" scale="0.0254 0.0254 0.0254"/>
      </geometry>
      <material name="green_dark">
        <color rgba="0 0.6 0 1"/>
      </material>
    </visual>
    <collision>
      <origin rpy="0 0 0" xyz="0 0 0"/>
      <geometry>
        <cylinder length="0.0208325" radius="0.02539"/>
      </geometry>
    </collision>
    <inertial>
      <origin rpy="0 0 0" xyz="0 0 0"/>
      <mass value="0.103"/>
      <inertia ixx="2.948" ixy="0.0452" ixz="0.4092" iyy="2.9305" iyz="-0.405" izz="1.819"/>
    </inertial>
  </link>
  <link name="reu_module_out_14">
    <visual>
      <origin rpy="0 0 0" xyz="0 0 0"/>
      <geometry>
        <cylinder length="0.015" radius="0.006"/>
      </geometry>
      <material name="blue">
        <color rgba="0 0 1 1"/>
      </material>
    </visual>
    <inertial>
      <origin rpy="0 0 0" xyz="0 0 0"/>
      <mass value="0"/>
      <inertia ixx="1" ixy="0" ixz="0" iyy="1" iyz="0" izz="1"/>
    </inertial>
  </link>
  <joint name="reu_joint_in2body_14" type="fixed">
    <parent link="reu_module_in_14"/>
    <child link="reu_module_body_14"/>
    <origin rpy="1.57076327 0 0" xyz="0 -0.0066 0"/>
  </joint>
  <joint name="reu_joint_body2out_14" type="fixed">
    <parent link="reu_module_body_14"/>
    <child link="reu_module_out_14"/>
    <origin rpy="0 1.57076327 0" xyz="0 0 0.044"/>
  </joint>
  <joint name="reu_joint_out2in_14" type="revolute">
    <parent link="reu_module_out_14"/>
    <child link="reu_module_in_15"/>
    <axis xyz="0 0 1"/>
    <origin rpy="0 3.14152654 -1.57076327" xyz="0 0 0"/>
    <dynamics damping="0.1" friction="0.2"/>
    <limit effort="7.0" lower="-1.57076327" upper="1.57076327" velocity="2.2"/>
  </joint>
  <transmission name="module_2_module_trans_14">
    <type>transmission_interface/SimpleTranmission</type>
    <actuator name="module_actuator_14">
      <mechanicalReduction>1</mechanicalReduction>
    </actuator>
    <joint name="reu_joint_out2in_14">
      <hardwareInterface>PositionJointInterface</hardwareInterface>
    </joint>
  </transmission>
  <link name="reu_module_in_15">
    <visual>
      <origin rpy="0 0 0" xyz="0 0 0"/>
      <geometry>
        <cylinder length="0.02" radius="0.006"/>
      </geometry>
      <material name="red">
        <color rgba="1 0 0 1"/>
      </material>
    </visual>
    <inertial>
      <origin rpy="0 0 0" xyz="0 0 0"/>
      <mass value="1"/>
      <inertia ixx="1" ixy="0" ixz="0" iyy="1" iyz="0" izz="1"/>
    </inertial>
  </link>
  <link name="reu_module_body_15">
    <visual>
      <origin rpy="0 0 0" xyz="-0.02539 -0.02539 -0.9"/>
      <geometry>
        <mesh filename="package://snakelib_description/REU_snake/meshes/ReU.STL" scale="0.0254 0.0254 0.0254"/>
      </geometry>
      <material name="green_light">
        <color rgba="0 0.4 0 1"/>
      </material>
    </visual>
    <collision>
      <origin rpy="0 0 0" xyz="0 0 0"/>
      <geometry>
        <cylinder length="0.0208325" radius="0.02539"/>
      </geometry>
    </collision>
    <inertial>
      <origin rpy="0 0 0" xyz="0 0 0"/>
      <mass value="0.103"/>
      <inertia ixx="2.948" ixy="0.0452" ixz="0.4092" iyy="2.9305" iyz="-0.405" izz="1.819"/>
    </inertial>
  </link>
  <link name="reu_module_out_15">
    <visual>
      <origin rpy="0 0 0" xyz="0 0 0"/>
      <geometry>
        <cylinder length="0.015" radius="0.006"/>
      </geometry>
      <material name="blue">
        <color rgba="0 0 1 1"/>
      </material>
    </visual>
    <inertial>
      <origin rpy="0 0 0" xyz="0 0 0"/>
      <mass value="0"/>
      <inertia ixx="1" ixy="0" ixz="0" iyy="1" iyz="0" izz="1"/>
    </inertial>
  </link>
  <joint name="reu_joint_in2body_15" type="fixed">
    <parent link="reu_module_in_15"/>
    <child link="reu_module_body_15"/>
    <origin rpy="1.57076327 0 0" xyz="0 -0.0066 0"/>
  </joint>
  <joint name="reu_joint_body2out_15" type="fixed">
    <parent link="reu_module_body_15"/>
    <child link="reu_module_out_15"/>
    <origin rpy="0 1.57076327 0" xyz="0 0 0.044"/>
  </joint>
<joint name="reu_joint_out2in_15" type="revolute">
    <parent link="reu_module_out_15"/>
    <child link="reu_module_in_16"/>
    <axis xyz="0 0 1"/>
    <origin rpy="0 3.14152654 -1.57076327" xyz="0 0 0"/>
    <dynamics damping="0.1" friction="0.2"/>
    <limit effort="7.0" lower="-1.57076327" upper="1.57076327" velocity="2.2"/>
  </joint>
  <transmission name="module_2_module_trans_15">
    <type>transmission_interface/SimpleTranmission</type>
    <actuator name="module_actuator_15">
      <mechanicalReduction>1</mechanicalReduction>
    </actuator>
    <joint name="reu_joint_out2in_15">
      <hardwareInterface>PositionJointInterface</hardwareInterface>
    </joint>
  </transmission>
  <link name="reu_module_in_16">
    <visual>
      <origin rpy="0 0 0" xyz="0 0 0"/>
      <geometry>
        <cylinder length="0.02" radius="0.006"/>
      </geometry>
      <material name="red">
        <color rgba="1 0 0 1"/>
      </material>
    </visual>
    <inertial>
      <origin rpy="0 0 0" xyz="0 0 0"/>
      <mass value="1"/>
      <inertia ixx="1" ixy="0" ixz="0" iyy="1" iyz="0" izz="1"/>
    </inertial>
  </link>
  <link name="reu_module_body_16">
    <visual>
      <origin rpy="0 0 0" xyz="-0.02539 -0.02539 -0.9"/>
      <geometry>
        <mesh filename="package://snakelib_description/REU_snake/meshes/ReU.STL" scale="0.0254 0.0254 0.0254"/>
      </geometry>
      <material name="green_light">
        <color rgba="0 0.4 0 1"/>
      </material>
    </visual>
    <collision>
      <origin rpy="0 0 0" xyz="0 0 0"/>
      <geometry>
        <cylinder length="0.0208325" radius="0.02539"/>
      </geometry>
    </collision>
    <inertial>
      <origin rpy="0 0 0" xyz="0 0 0"/>
      <mass value="0.103"/>
      <inertia ixx="2.948" ixy="0.0452" ixz="0.4092" iyy="2.9305" iyz="-0.405" izz="1.819"/>
    </inertial>
  </link>
  <link name="reu_module_out_16">
    <visual>
      <origin rpy="0 0 0" xyz="0 0 0"/>
      <geometry>
        <cylinder length="0.015" radius="0.006"/>
      </geometry>
      <material name="blue">
        <color rgba="0 0 1 1"/>
      </material>
    </visual>
    <inertial>
      <origin rpy="0 0 0" xyz="0 0 0"/>
      <mass value="0"/>
      <inertia ixx="1" ixy="0" ixz="0" iyy="1" iyz="0" izz="1"/>
    </inertial>
  </link>
  <joint name="reu_joint_in2body_16" type="fixed">
    <parent link="reu_module_in_16"/>
    <child link="reu_module_body_16"/>
    <origin rpy="1.57076327 0 0" xyz="0 -0.0066 0"/>
  </joint>
  <joint name="reu_joint_body2out_16" type="fixed">
    <parent link="reu_module_body_16"/>
    <child link="reu_module_out_16"/>
    <origin rpy="0 1.57076327 0" xyz="0 0 0.044"/>
  </joint>
</robot>
